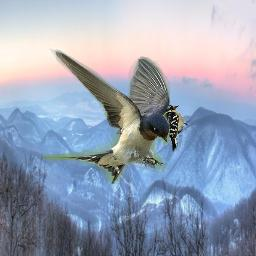Swallow: (42, 48, 170, 184)
Woodpecker: (162, 104, 191, 152)
